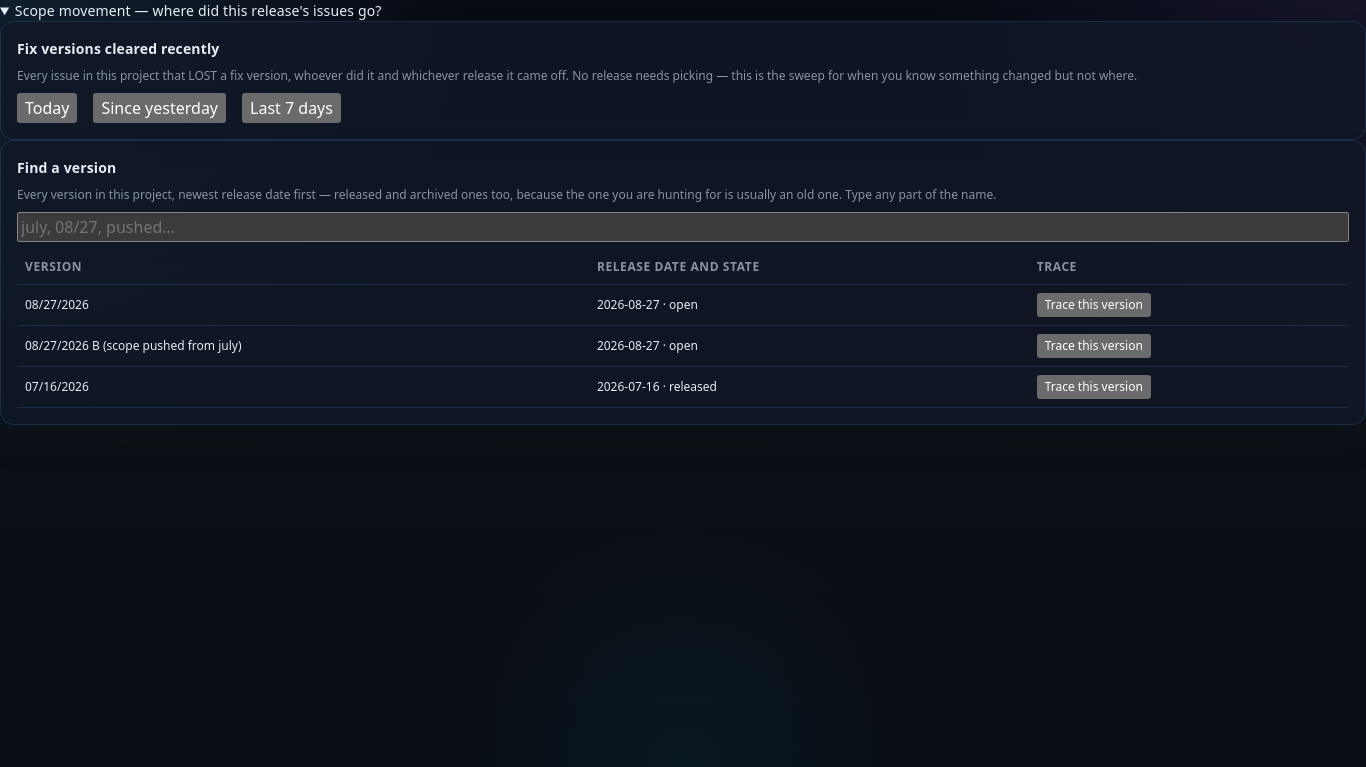
Test case: VersionMovementPanel — who took the version off › says the history does not say, rather than inventing a name
The image size is (1366, 767).
Click the 1st button "Trace this version" at (1094, 305), box x1=1037 y1=293 x2=1151 y2=317
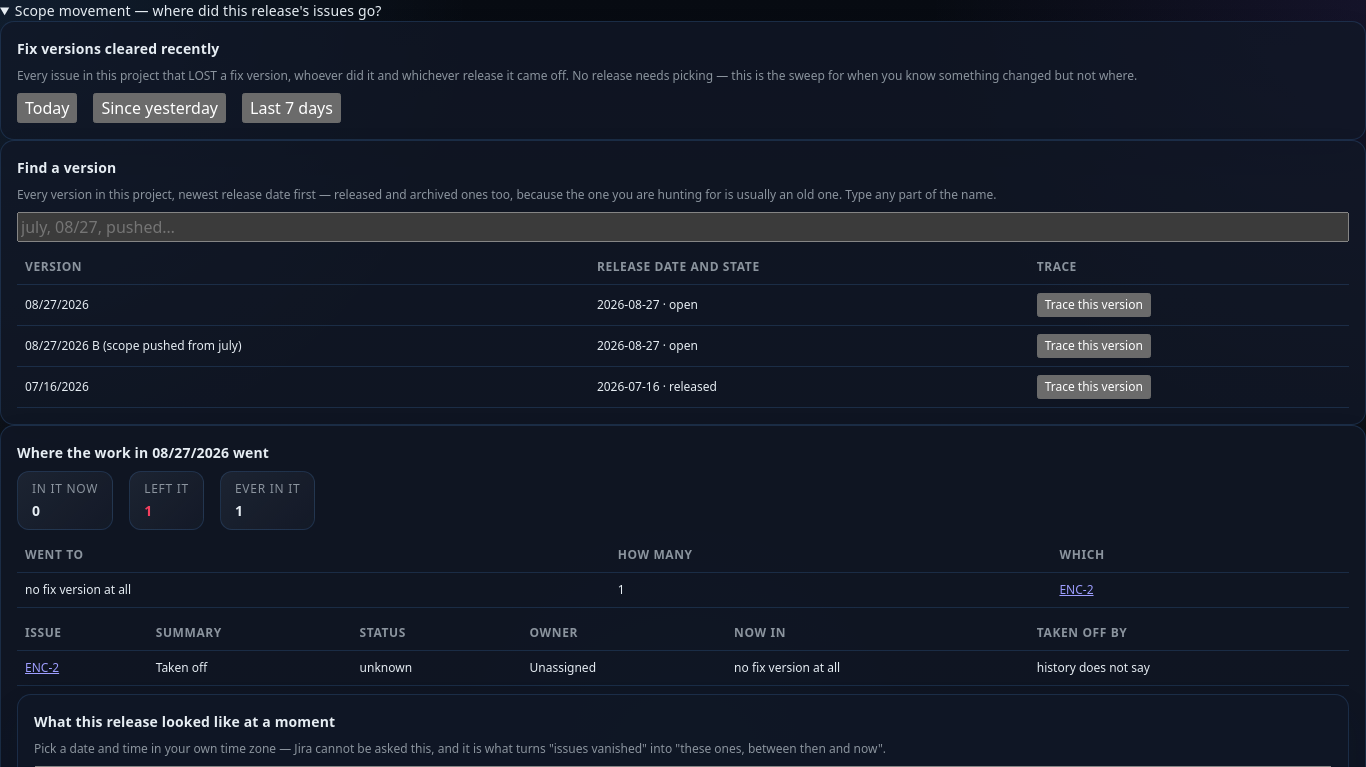
Expected: the text "history does not say" is shown, x1=1029 y1=650 x2=1349 y2=686
